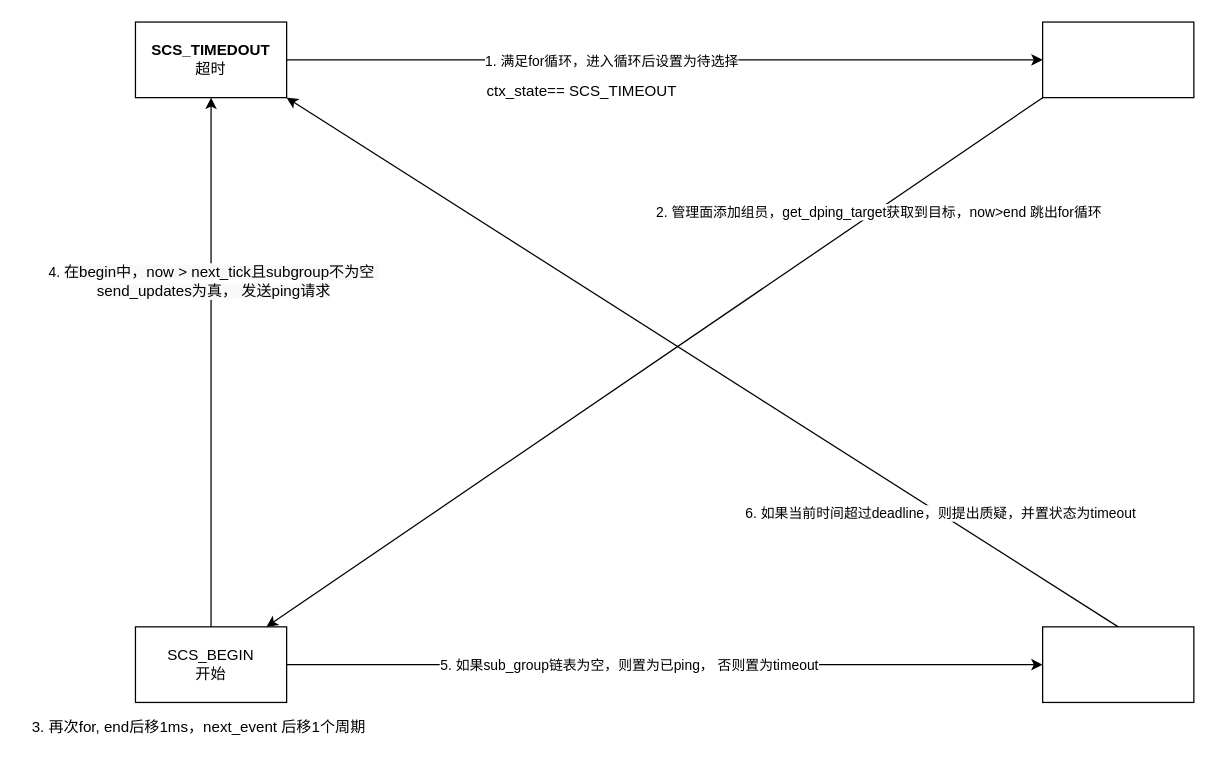
Image size: 1216x762. Some labels were removed from this diagram. The shapes that lost their labels are listed below. From the top down, each one's box as (x1, y1, x2, y2) in pixels, then its label:
(1041, 21, 1194, 98): SCS_SELECT 选择
(1041, 626, 1194, 702): SCS_PINGED 已Ping
